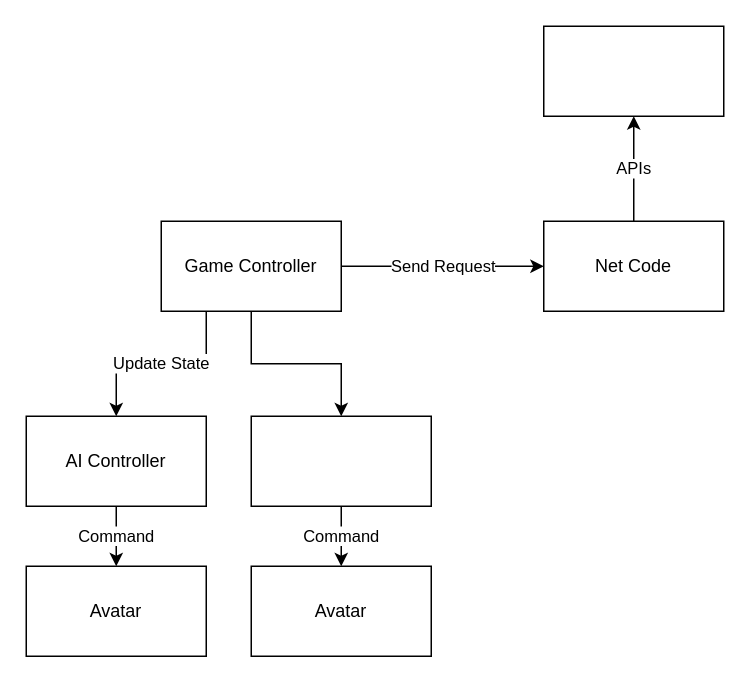
The diagram is 750 pixels wide and 683 high, and some of its shapes have lost their labels. Each missing label, with the centre of its shape:
"Player Controller" belongs at (x=340, y=460).
"Server" belongs at (x=633, y=70).
